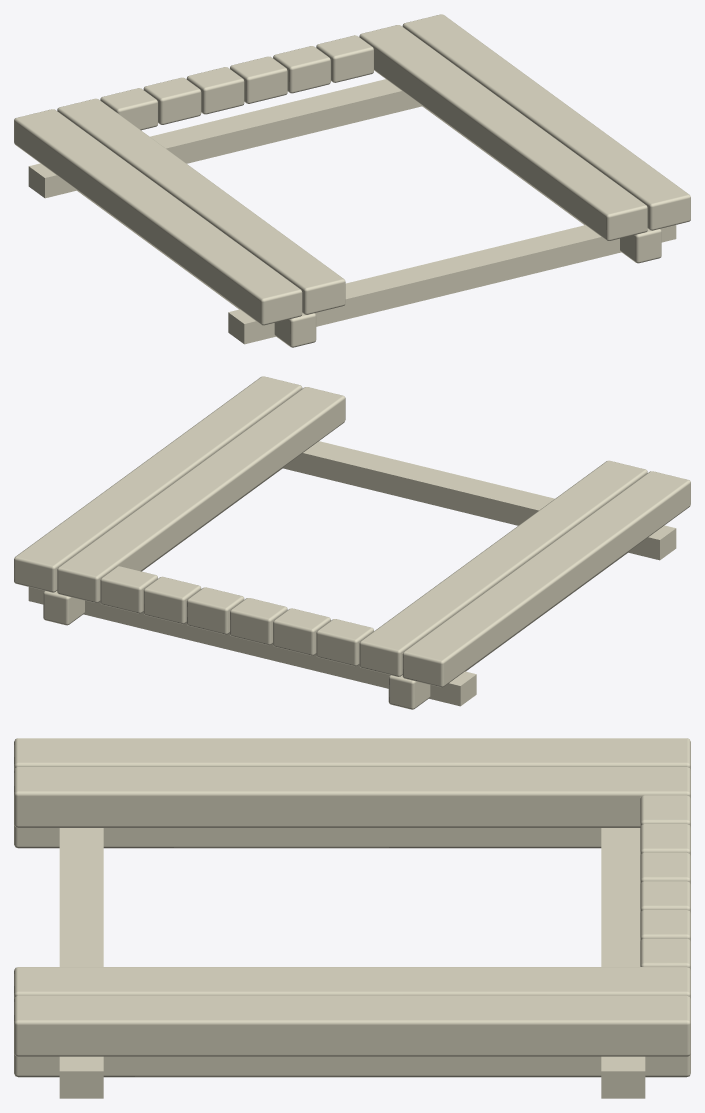
Rendered from bunker-shelter-construction-shelter-stair-opening-55d7865e__23296.glb.
3 renders of one model, top to bottom at view 1: azimuth 30°, elevation 25°; view 2: azimuth 150°, elevation 25°; view 3: azimuth 270°, elevation 25°, orthographic. The views are drawn at different scales.
Visible parts, largest first — view 1: shelter-stair-opening; view 2: shelter-stair-opening; view 3: shelter-stair-opening.
Part boxes in pixels (x1=…): shelter-stair-opening: x1=14, y1=14, x2=690, y2=347; shelter-stair-opening: x1=14, y1=376, x2=690, y2=709; shelter-stair-opening: x1=14, y1=738, x2=690, y2=1098.
Bounding box in the file's own units: 2 × 0.25 × 2.
